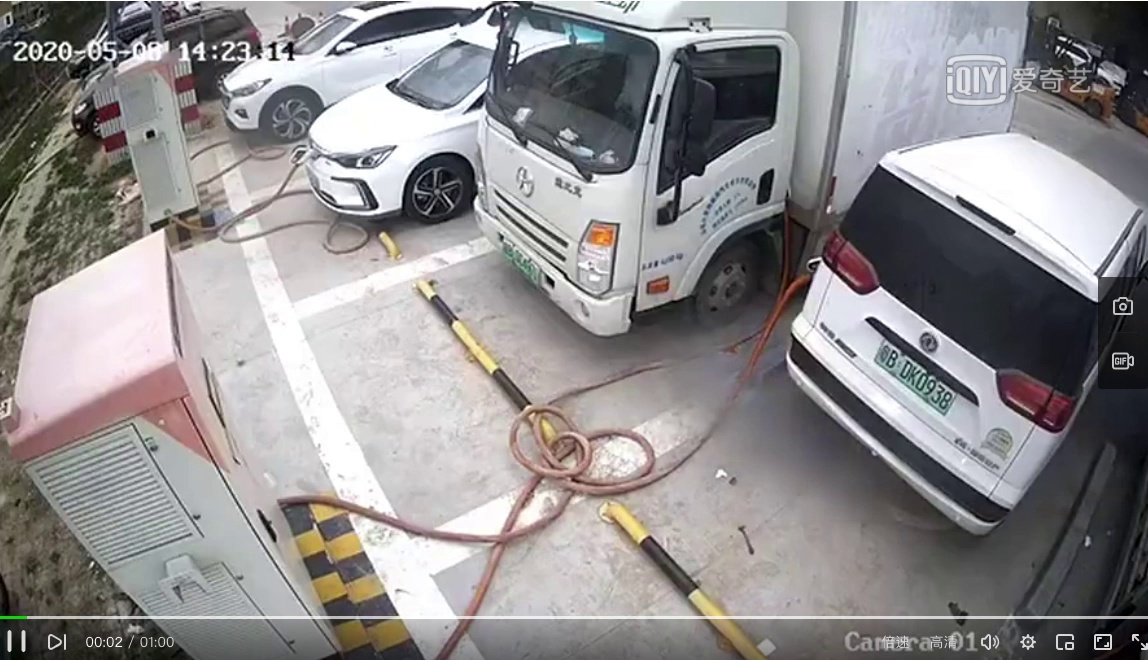smoke: (711, 338, 881, 500)
